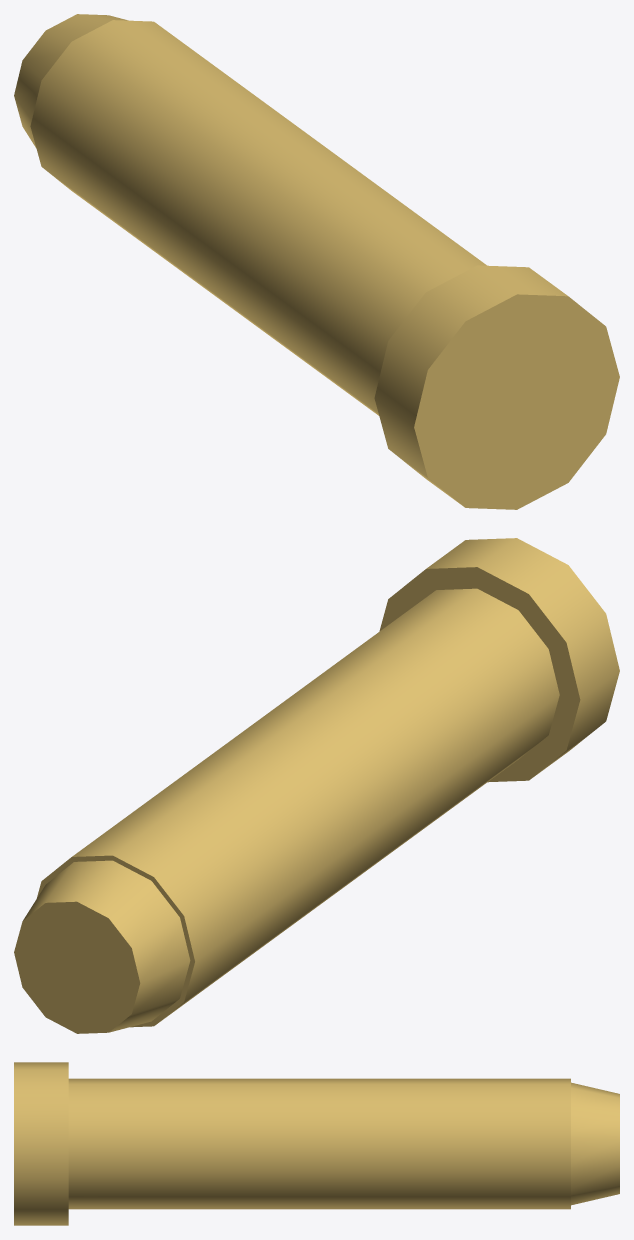
The model's file is SentryShellCasing.fbx.
3 renders of one model, top to bottom at view 1: azimuth 30°, elevation 25°; view 2: azimuth 150°, elevation 25°; view 3: azimuth 270°, elevation 25°, orthographic. The views are drawn at different scales.
Parts seen in each view (by area): view 1: Casing_Body, Casing_Rim, Casing_Neck; view 2: Casing_Body, Casing_Neck, Casing_Rim; view 3: Casing_Body, Casing_Rim, Casing_Neck.
Part boxes in pixels (left/top/right/bottom): Casing_Body: left=30, top=20, right=486, bottom=415; Casing_Rim: left=374, top=265, right=619, bottom=509; Casing_Neck: left=14, top=14, right=128, bottom=147; Casing_Body: left=37, top=588, right=559, bottom=1027; Casing_Neck: left=14, top=860, right=190, bottom=1033; Casing_Rim: left=379, top=538, right=619, bottom=782; Casing_Body: left=68, top=1078, right=570, bottom=1209; Casing_Rim: left=14, top=1062, right=68, bottom=1225; Casing_Neck: left=571, top=1082, right=619, bottom=1205.
Bounding box in the file's own units: 0.015 × 0.015 × 0.0555.
